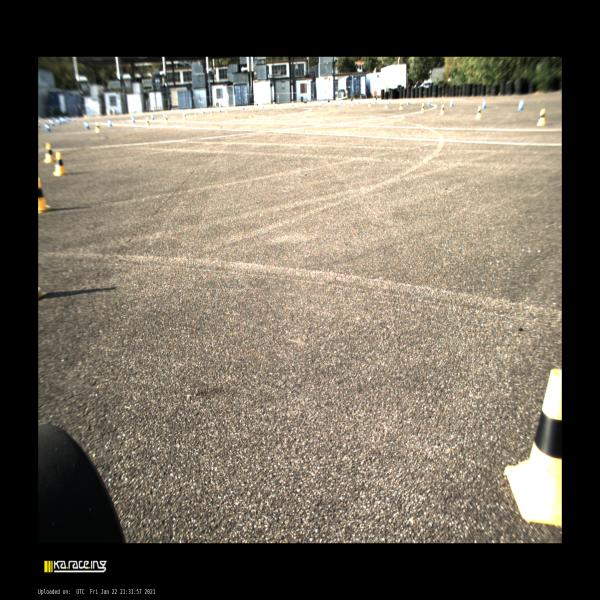blue_cone: (518, 100, 524, 111), (449, 98, 454, 107), (85, 120, 90, 129), (482, 99, 486, 108), (427, 98, 431, 106), (108, 118, 112, 126), (131, 115, 135, 123), (152, 113, 154, 119)
yellow_cone: (504, 368, 562, 528), (38, 177, 51, 214), (52, 152, 67, 176), (44, 143, 54, 163), (536, 109, 546, 126), (94, 121, 101, 133), (475, 106, 481, 119), (440, 104, 445, 116), (145, 117, 150, 125), (421, 102, 424, 113), (399, 102, 403, 110), (164, 115, 168, 123)
